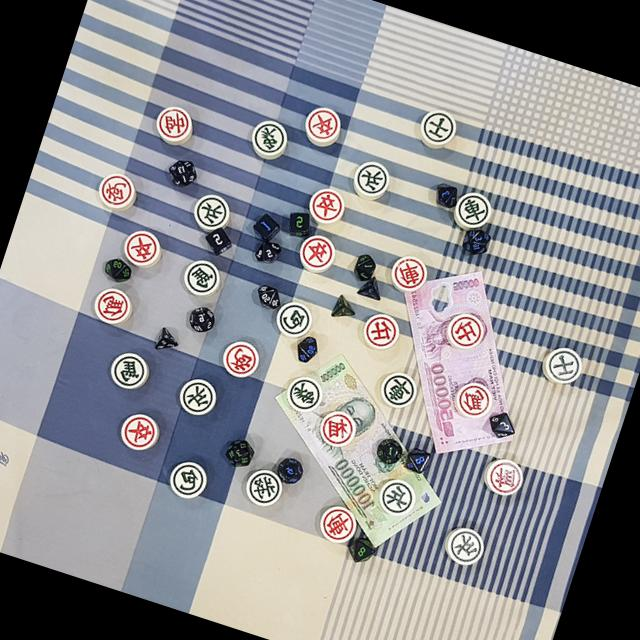black-advisor: (536, 339, 589, 391), (412, 102, 462, 154)
black-cannon: (160, 452, 213, 504), (270, 296, 316, 344)
black-chariot: (446, 182, 498, 235), (370, 364, 422, 414)
black-elephant: (242, 112, 294, 164), (279, 369, 327, 418)
black-general: (238, 462, 287, 512)
black-horse: (100, 342, 152, 397), (173, 253, 226, 303)
black-soldier: (437, 518, 492, 572), (172, 371, 224, 425), (186, 185, 234, 238), (346, 154, 395, 203), (370, 474, 418, 521)
red-advisor: (438, 306, 491, 354), (355, 306, 403, 356)
red-cannon: (214, 332, 267, 384), (91, 164, 141, 218)
red-chariot: (309, 499, 363, 552), (382, 248, 434, 300)
red-elephant: (477, 450, 531, 503), (312, 404, 362, 453)
red-general: (150, 98, 199, 152)
red-horse: (86, 282, 136, 332), (448, 374, 498, 424)
red-soldier: (116, 221, 167, 276), (113, 407, 164, 458), (298, 100, 347, 152), (302, 180, 351, 230), (292, 228, 342, 276)
